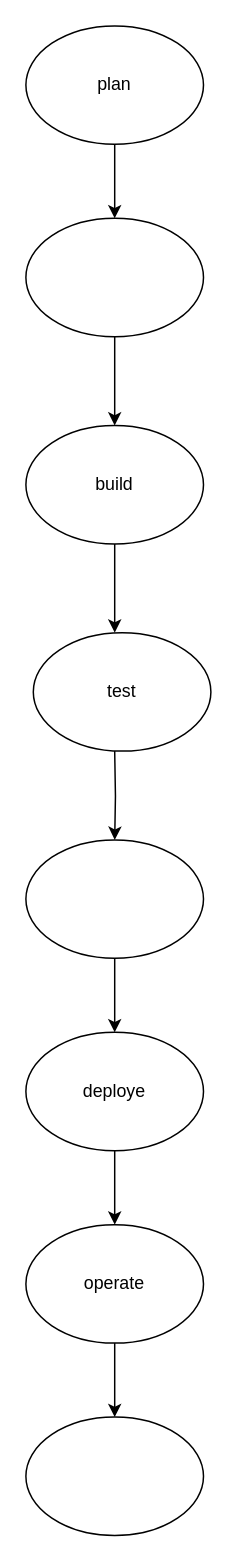
Image size: 237x1561. Some labels were removed from this diagram. The shapes that lost their labels are listed below. From the top down, each one's centre as x and y in pixels, then its label:
At point 114,277: "devolop".
At point 114,898: "release".
At point 114,1476: "monitor".
